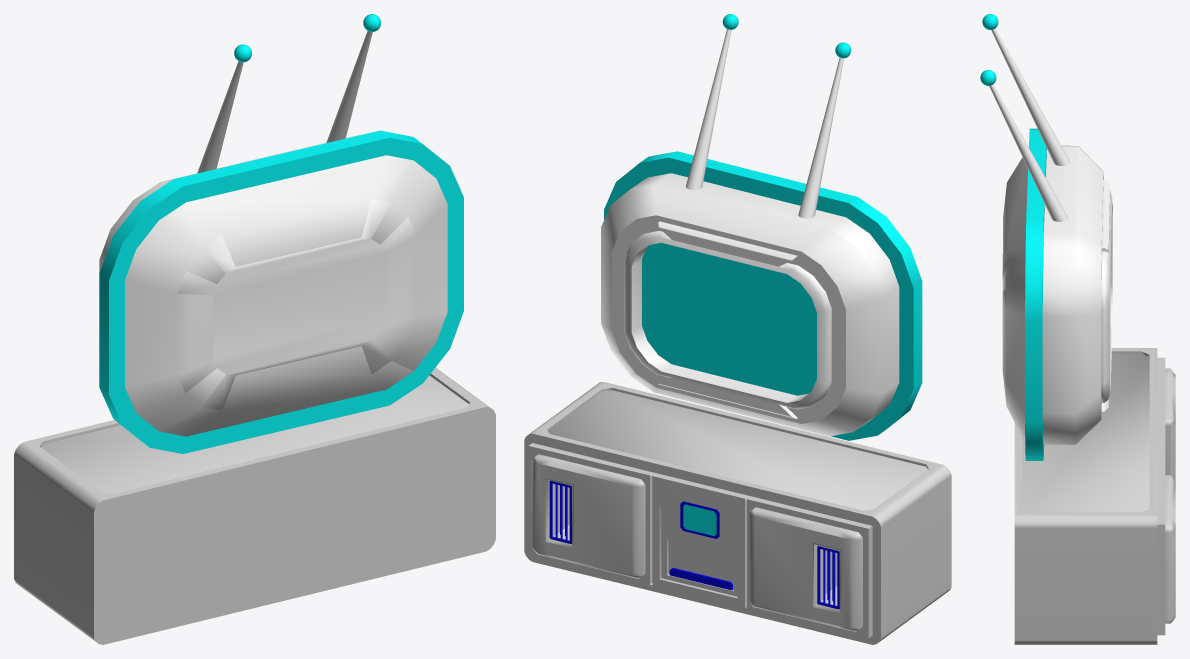
The model's file is televisionModern.glb.
3 renders of one model, left to right at view 1: azimuth 30°, elevation 25°; view 2: azimuth 150°, elevation 25°; view 3: azimuth 270°, elevation 25°, orthographic. The views are drawn at different scales.
Parts seen in each view (by area): view 1: pCube263_Locker:lambert2_0; view 2: pCube263_Locker:lambert2_0; view 3: pCube263_Locker:lambert2_0.
Boxes of the visible parts, bbox=[...] form: pCube263_Locker:lambert2_0: bbox=[14, 14, 495, 644]; pCube263_Locker:lambert2_0: bbox=[524, 14, 951, 644]; pCube263_Locker:lambert2_0: bbox=[980, 14, 1175, 644].
Size of the model in its own units: 1.84 by 2.53 by 0.8652.
